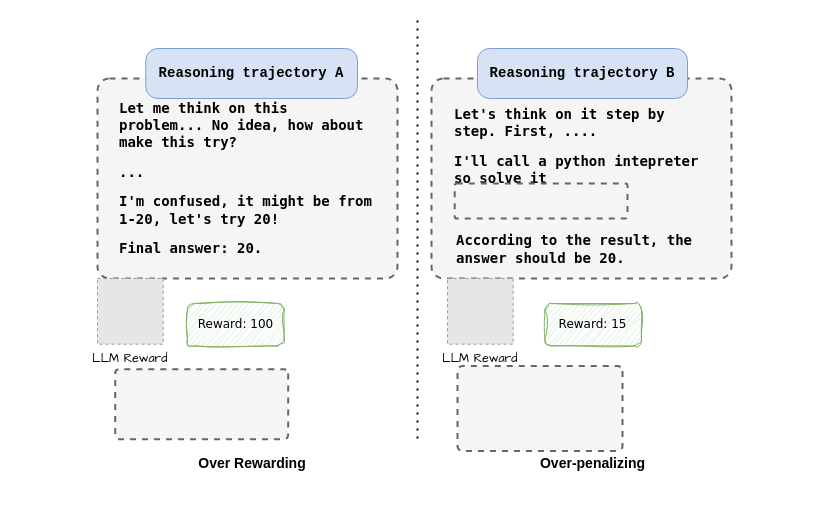
The diagram is 815 pixels wide and 515 high, and some of its shapes have lost their labels. Grey dashed boxes stand in for pictures. The shapes that lost their labels are listed below. From the top down, each one's centre as x and y in pixels, then its label:
the point at 540,200: import math <Code Snippet>
the point at 201,404: The final answer is correct; assign a high reward.
the point at 539,408: The code contains a syntax error; assign a low reward.
